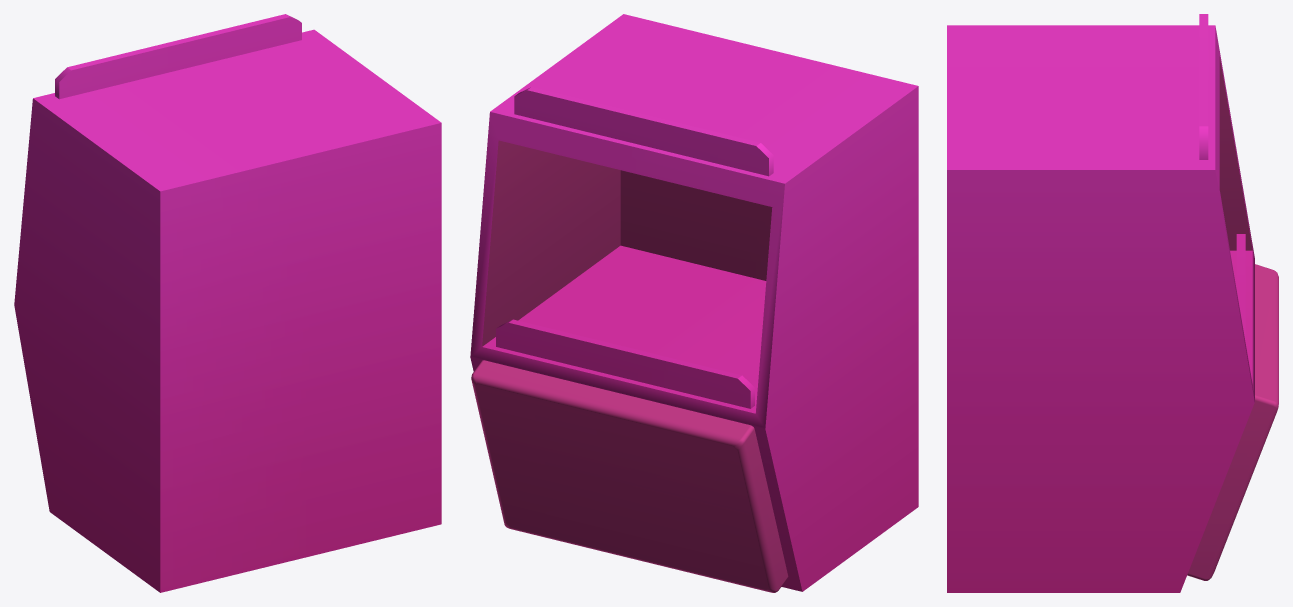
File: Shelf_Tiny_Candy.fbx
The picture shows the model from 3 angles, left to right: view 1: azimuth 30°, elevation 25°; view 2: azimuth 150°, elevation 25°; view 3: azimuth 270°, elevation 25°; orthographic projection. The views are drawn at different scales.
Parts seen in each view (by area): view 1: Shelf_Tiny_Candy; view 2: Shelf_Tiny_Candy; view 3: Shelf_Tiny_Candy.
Part boxes in pixels (left/top/right/bottom): Shelf_Tiny_Candy: left=14, top=14, right=441, bottom=592; Shelf_Tiny_Candy: left=470, top=14, right=918, bottom=592; Shelf_Tiny_Candy: left=947, top=14, right=1278, bottom=592.
Bounding box in the file's own units: 4.99 × 7.24 × 4.84.
